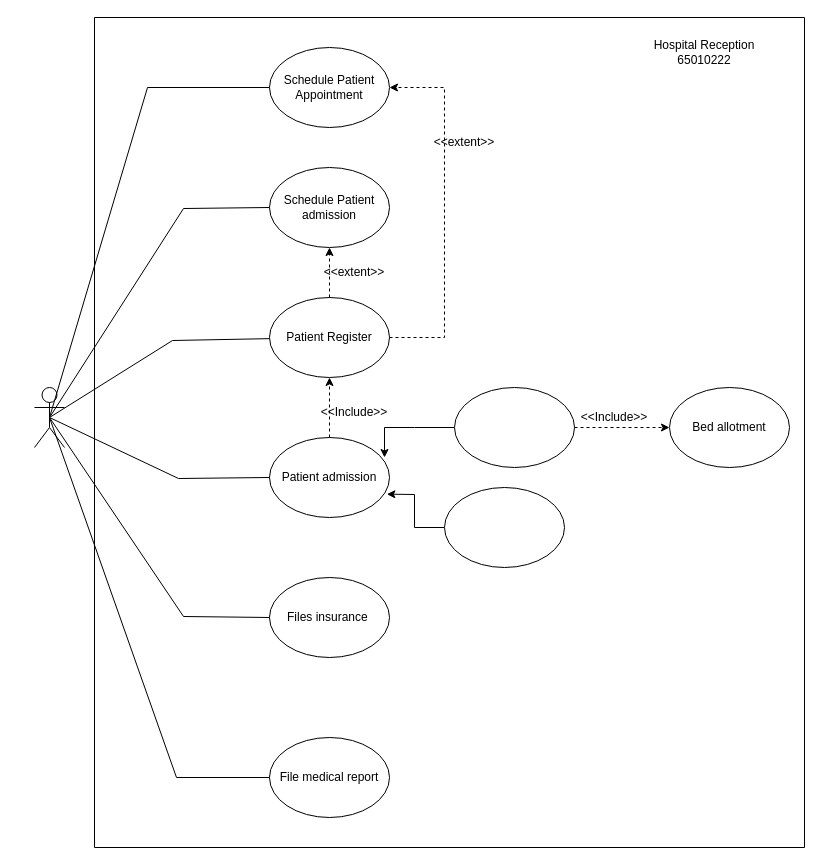
The diagram is 822 pixels wide and 865 high, and some of its shapes have lost their labels. Each missing label, with the centre of its shape:
"Chinnathorn 65010222" goes at pixel 49 417.
"Patient In" goes at pixel 514 427.
"Patient Out" goes at pixel 504 527.
